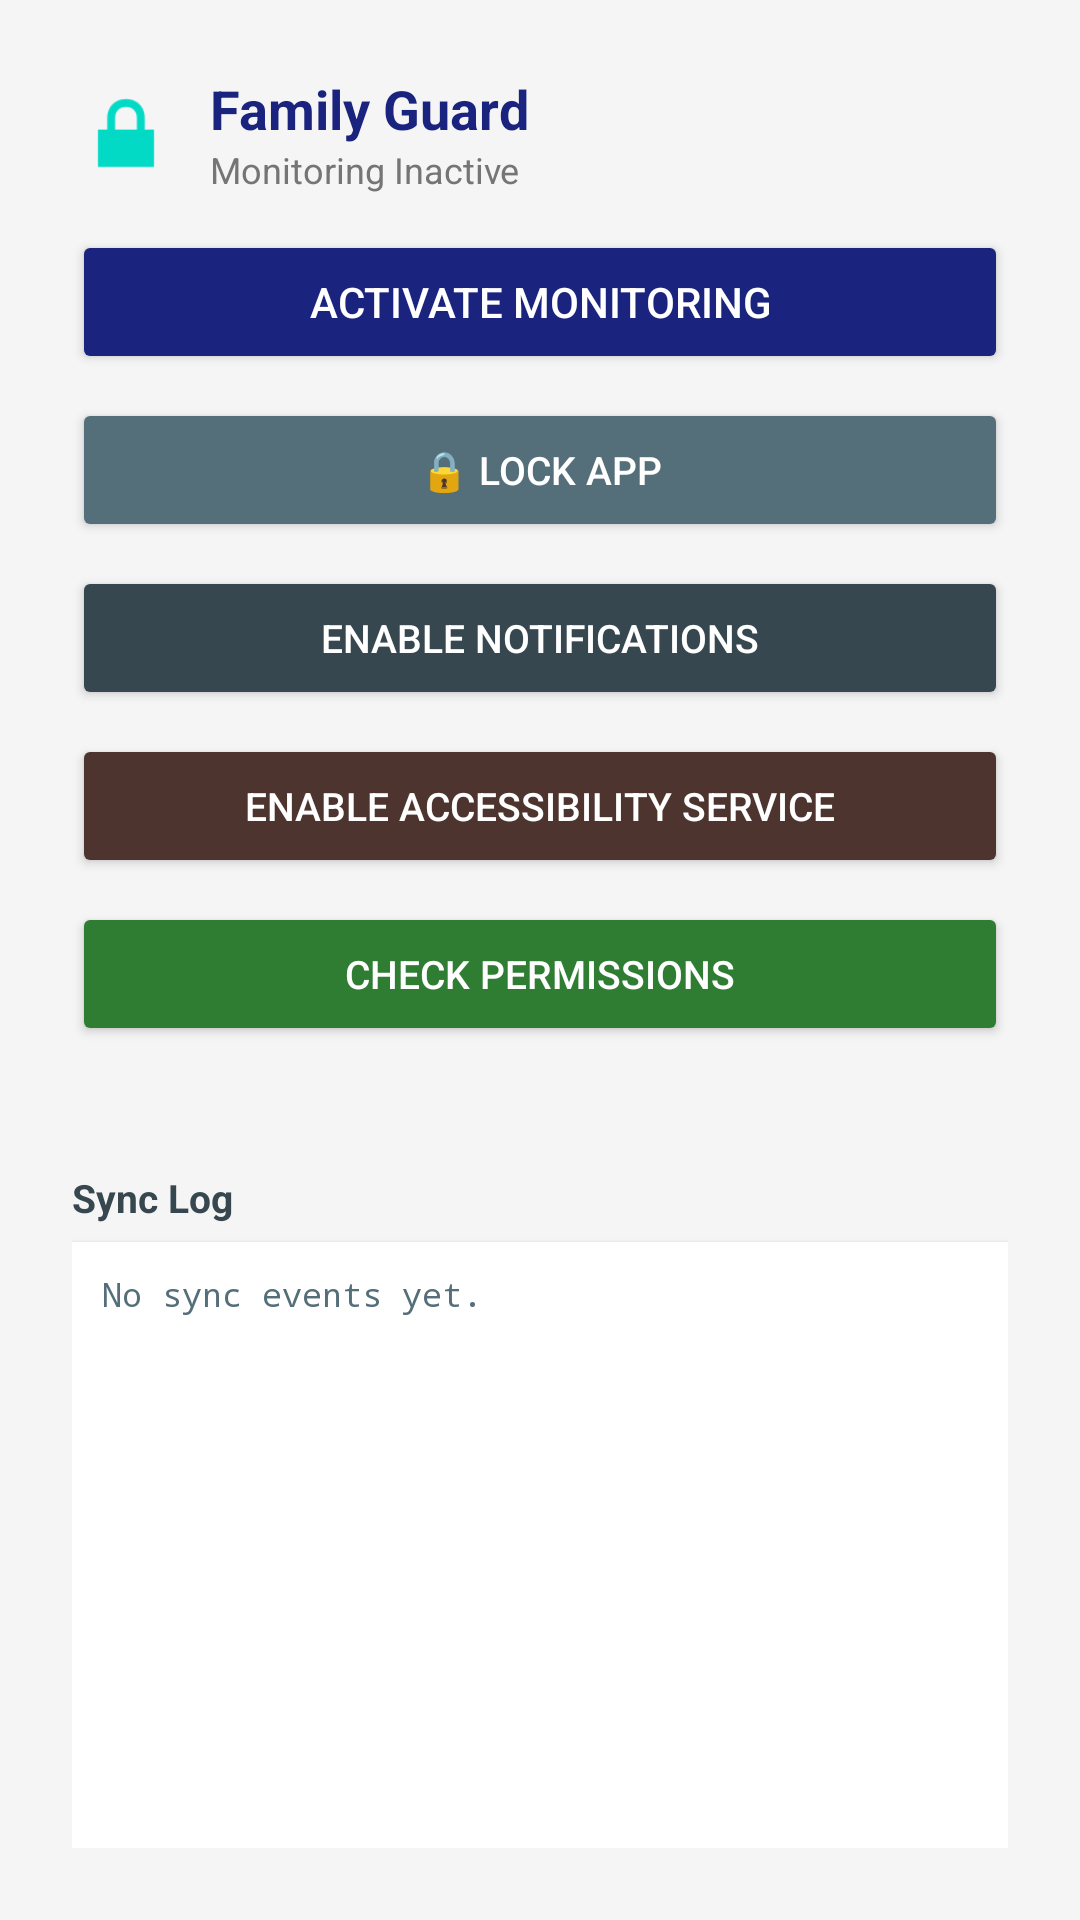

Where icons sit on this 1080 × 1920 app screen, as detection(x1, y1, x2, y2):
lock: detection(97, 98, 155, 168)
